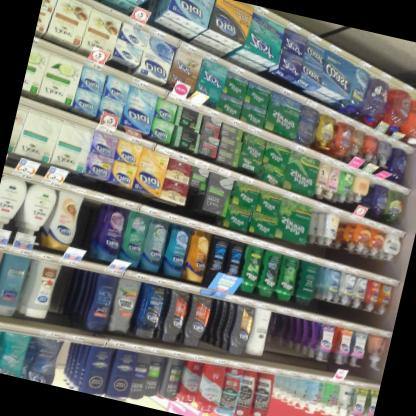empty_space: (49, 264, 92, 315), (72, 195, 106, 246)
